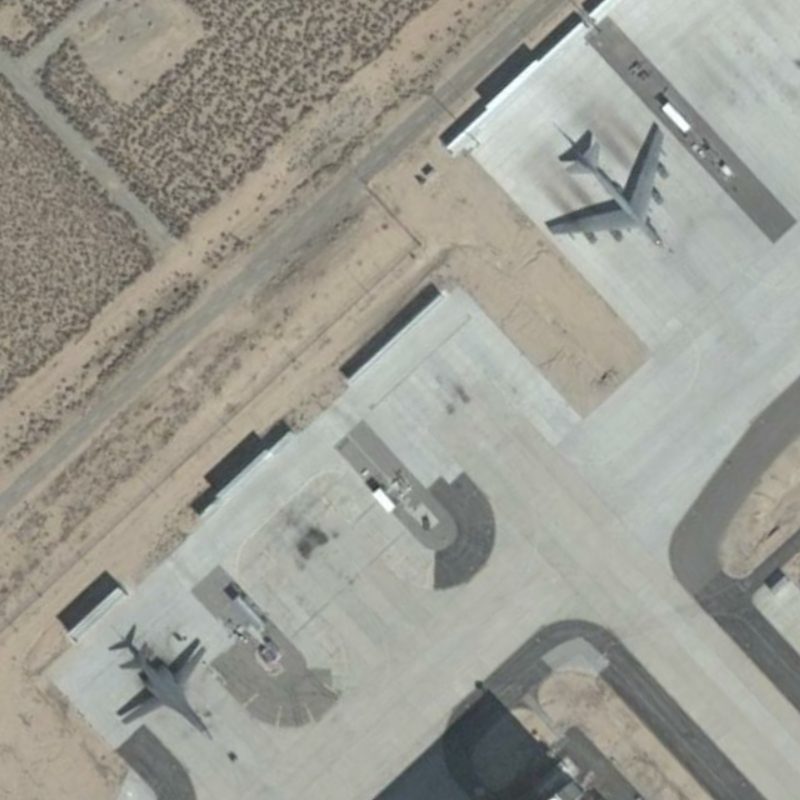A10: (106, 631, 221, 747)
A8: (533, 116, 678, 261)
